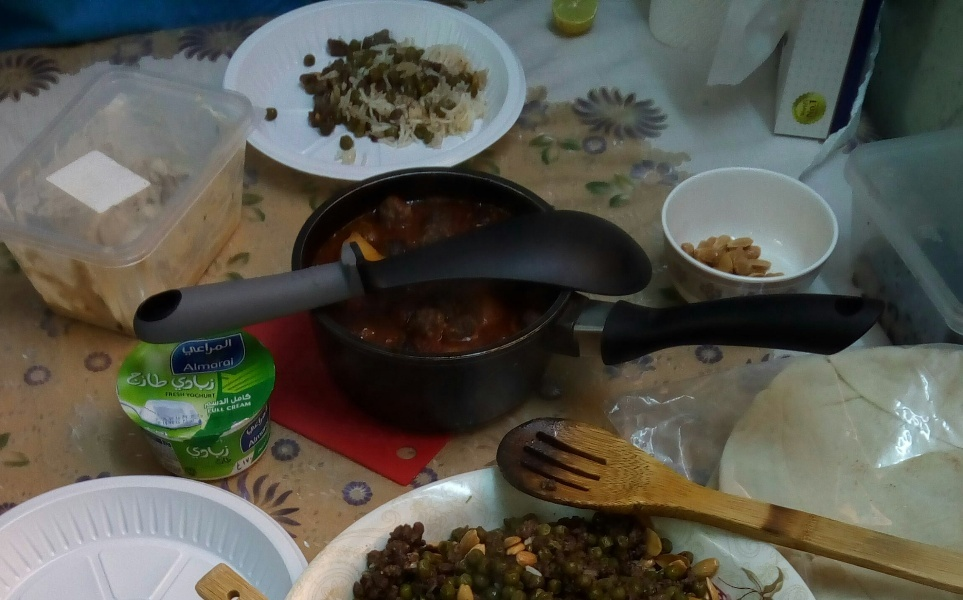text: (257, 435, 272, 457), (257, 424, 268, 452), (245, 411, 256, 438), (257, 411, 268, 438), (193, 339, 208, 358), (209, 339, 224, 358), (145, 371, 160, 389), (193, 445, 208, 462), (209, 445, 224, 462), (130, 371, 144, 389), (177, 375, 192, 391), (193, 375, 208, 391), (193, 358, 208, 373), (209, 358, 224, 373), (248, 424, 256, 452), (181, 339, 192, 358), (161, 414, 176, 427), (177, 414, 192, 427), (193, 414, 207, 427), (209, 398, 224, 409), (227, 400, 240, 412), (242, 456, 256, 467), (225, 339, 233, 358), (225, 358, 235, 373), (241, 393, 253, 405), (225, 445, 233, 462), (183, 358, 192, 373), (241, 400, 252, 412), (161, 371, 168, 389), (213, 457, 224, 468), (230, 393, 240, 405), (185, 445, 192, 462), (209, 407, 225, 414), (225, 457, 234, 468), (209, 375, 215, 391), (193, 393, 208, 399), (155, 414, 160, 427), (172, 375, 176, 391), (225, 398, 230, 409), (166, 392, 176, 397), (177, 392, 186, 397), (204, 398, 208, 409), (209, 393, 216, 399), (186, 393, 192, 399), (238, 461, 240, 472), (241, 461, 243, 472), (207, 407, 208, 414)
